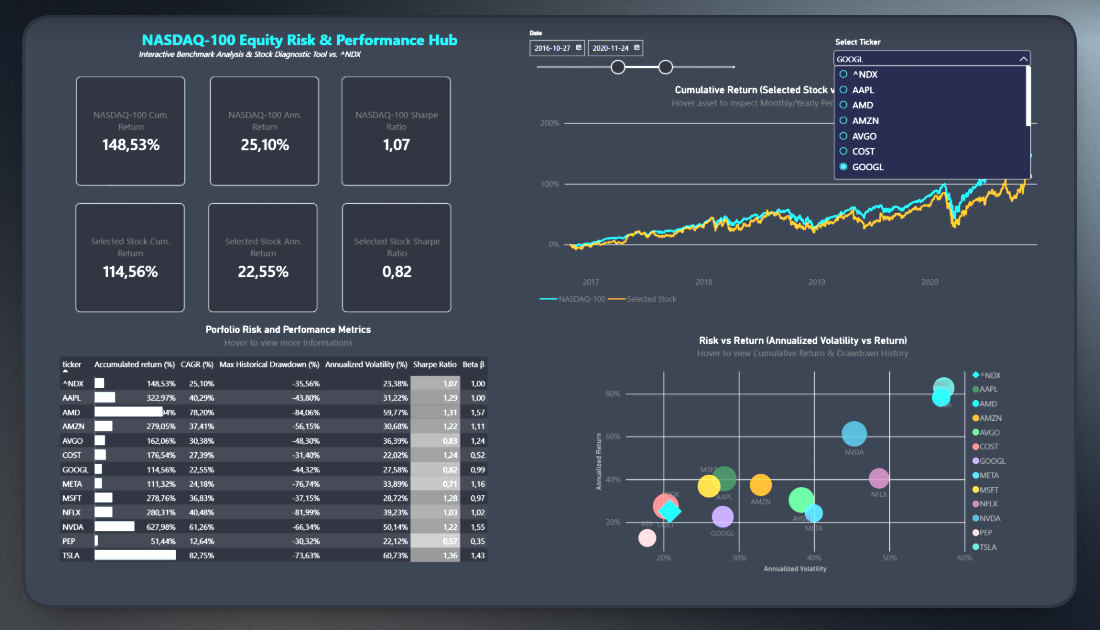

What the dashboard file says about the page in this screenshot:
{"tool":"powerbi","page":{"name":"Dashboard","canvas":[1920,1080],"ordinal":0},"visuals":[{"type":"pivotTable","title":"Porfolio Risk and Perfomance Metrics","fields":{"Rows":["summary_table.ticker"],"Values":["measure.Return_Selected_Stock","measure.d_annualized_return","Sum(summary_table.max_drawdown)","measure.Annualized_volatility","measure.d_sharpe_ratio","Sum(summary_table.scl_beta)"]},"box":[53.1,546,862,505.2],"z":0},{"type":"slicer","fields":{"Values":["calendar.Date"]},"box":[915.1,25.9,396.3,118.5],"z":1000},{"type":"cardVisual","fields":{"Data":["measure.d_annualized_return"]},"box":[337.7,340.4,200,200],"z":2000},{"type":"cardVisual","fields":{"Data":["measure.d_sharpe_ratio"]},"box":[581.4,340.4,200,200],"z":3000},{"type":"lineChart","title":"Cumulative Return (Selected Stock vs NASDAQ-100)","fields":{"Category":["calendar.Date"],"Y":["measure.Cumulative_Return_^NDX","measure.Cumulative_Return_Other"]},"box":[924.6,111.7,940.2,434.8],"z":4000},{"type":"cardVisual","fields":{"Data":["measure.Return_Selected_Stock"]},"box":[96.7,340.4,200,200],"z":5000},{"type":"cardVisual","fields":{"Data":["measure.Return_Selected_Stock"]},"box":[98,111.7,200,200],"z":6000},{"type":"scatterChart","title":"Risk vs Return (Annualized Volatility  vs Return)","fields":{"Series":["summary_table.ticker"],"Size":["Sum(summary_table.sharpe_ratio)"],"X":["Sum(summary_table.annualized_volatility)"],"Y":["measure.d_annualized_return"]},"box":[1025.4,565.1,787.6,462.7],"z":7000},{"type":"textbox","box":[212.4,25.9,648.2,59.9],"z":8000},{"type":"slicer","fields":{"Values":["summary_table.ticker"]},"box":[1469.3,40.9,367.7,89.9],"z":9000},{"type":"cardVisual","fields":{"Data":["measure.d_annualized_return"]},"box":[340.4,111.7,200,200],"z":10000},{"type":"cardVisual","fields":{"Data":["measure.d_sharpe_ratio"]},"box":[580.1,111.7,200,200],"z":11000}]}

Visuals, with their boxes in screenshot pixels (x1, y1, x2, y2), scaled from the page's 1920x1080 canvas onto the 1100x630 screenshot:
"Porfolio Risk and Perfomance Metrics" pivotTable: crop(30, 318, 524, 613)
slicer - calendar.Date: crop(524, 15, 751, 84)
cardVisual - measure.d_annualized_return: crop(193, 199, 308, 315)
cardVisual - measure.d_sharpe_ratio: crop(333, 199, 448, 315)
"Cumulative Return (Selected Stock vs NASDAQ-100)" lineChart: crop(530, 65, 1068, 319)
cardVisual - measure.Return_Selected_Stock: crop(55, 199, 170, 315)
cardVisual - measure.Return_Selected_Stock: crop(56, 65, 171, 182)
"Risk vs Return (Annualized Volatility  vs Return)" scatterChart: crop(587, 330, 1039, 600)
textbox: crop(122, 15, 493, 50)
slicer - summary_table.ticker: crop(842, 24, 1052, 76)
cardVisual - measure.d_annualized_return: crop(195, 65, 310, 182)
cardVisual - measure.d_sharpe_ratio: crop(332, 65, 447, 182)
